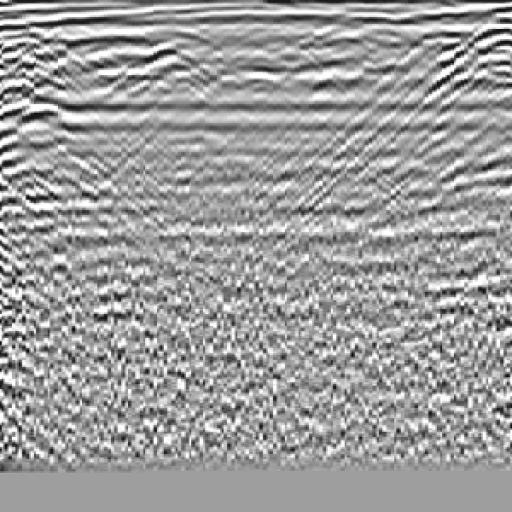metalic: (2, 34, 90, 235)
